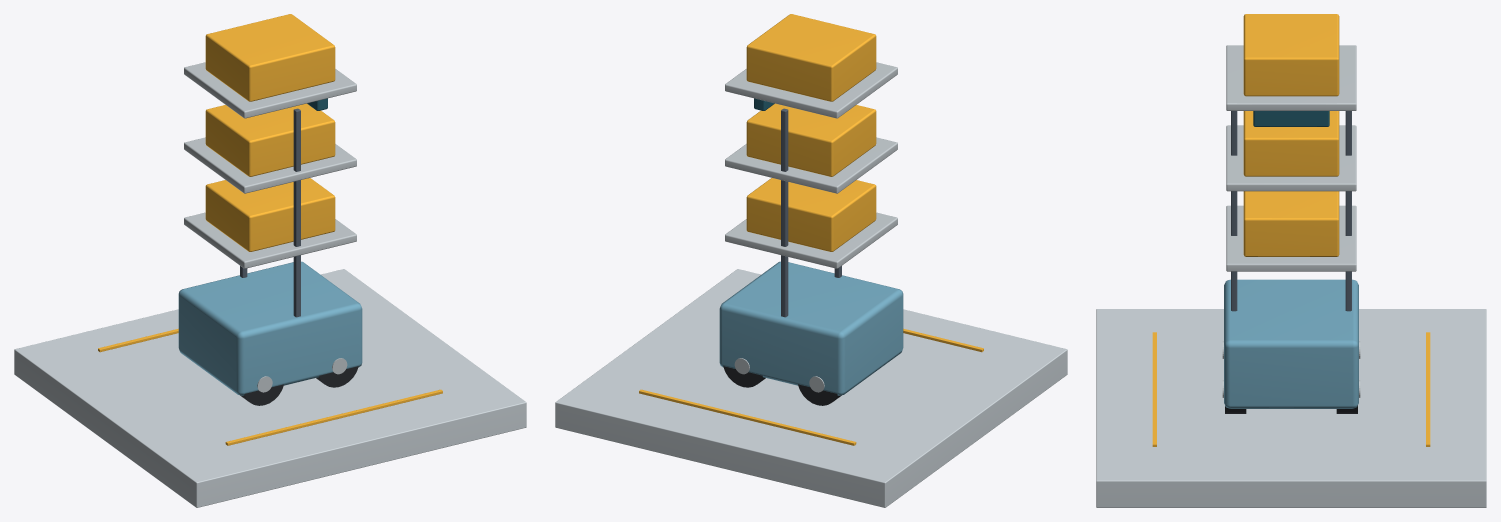
3 renders of one model, left to right at view 1: azimuth 30°, elevation 25°; view 2: azimuth 150°, elevation 25°; view 3: azimuth 270°, elevation 25°, orthographic. The views are drawn at different scales.
Visible parts, largest first — view 1: Ground plane, Mobile cobot chassis, Sample tote.002, Sample tote, Sample tote.001, Tote shelf.002, Tote shelf.001, Tote shelf, Shelf support, Concept clearance guide; view 2: Ground plane, Mobile cobot chassis, Sample tote.002, Sample tote, Sample tote.001, Tote shelf.002, Tote shelf.001, Tote shelf, Shelf support.001, Concept clearance guide.001; view 3: Ground plane, Mobile cobot chassis, Sample tote.002, Sample tote, Sample tote.001, Tote shelf.002, Tote shelf.001, Tote shelf, Operator tablet, Shelf support, Shelf support.001, Concept clearance guide (+1 smaller).
Part boxes in pixels (x1=…): Ground plane: x1=14, y1=269, x2=526, y2=507; Mobile cobot chassis: x1=178, y1=261, x2=362, y2=395; Sample tote.002: x1=205, y1=14, x2=335, y2=101; Sample tote: x1=205, y1=178, x2=335, y2=251; Sample tote.001: x1=205, y1=103, x2=335, y2=176; Tote shelf.002: x1=184, y1=62, x2=356, y2=118; Tote shelf.001: x1=184, y1=137, x2=356, y2=193; Tote shelf: x1=184, y1=212, x2=356, y2=268; Shelf support: x1=293, y1=108, x2=300, y2=317; Concept clearance guide: x1=225, y1=389, x2=442, y2=445; Ground plane: x1=555, y1=269, x2=1067, y2=507; Mobile cobot chassis: x1=719, y1=261, x2=903, y2=395; Sample tote.002: x1=746, y1=14, x2=876, y2=101; Sample tote: x1=746, y1=178, x2=876, y2=251; Sample tote.001: x1=746, y1=103, x2=876, y2=176; Tote shelf.002: x1=725, y1=62, x2=897, y2=118; Tote shelf.001: x1=725, y1=137, x2=897, y2=193; Tote shelf: x1=725, y1=212, x2=897, y2=268; Shelf support.001: x1=781, y1=108, x2=788, y2=317; Concept clearance guide.001: x1=639, y1=389, x2=856, y2=445; Ground plane: x1=1096, y1=309, x2=1486, y2=507; Mobile cobot chassis: x1=1224, y1=279, x2=1358, y2=408; Sample tote.002: x1=1243, y1=14, x2=1339, y2=96; Sample tote: x1=1243, y1=191, x2=1339, y2=256; Sample tote.001: x1=1243, y1=111, x2=1339, y2=176; Tote shelf.002: x1=1226, y1=45, x2=1356, y2=110; Tote shelf.001: x1=1226, y1=125, x2=1356, y2=191; Tote shelf: x1=1226, y1=205, x2=1356, y2=271; Operator tablet: x1=1253, y1=111, x2=1329, y2=126; Shelf support: x1=1231, y1=111, x2=1237, y2=311; Shelf support.001: x1=1345, y1=111, x2=1351, y2=311; Concept clearance guide: x1=1152, y1=332, x2=1156, y2=446.
Bounding box in the file's own units: 1.61 × 1.69 × 1.54.
